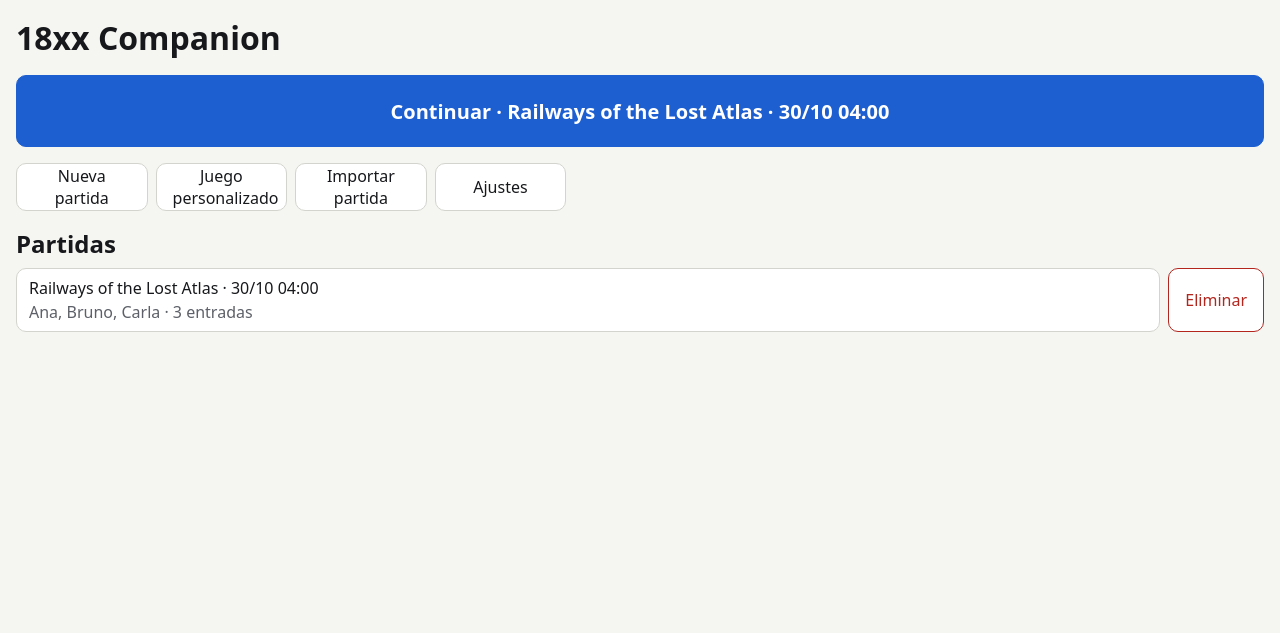
RotLA's 1-D track (T102) › is one wrapping strip: 27 cells, the 0 labeled Cerrada, stacks top to bottom, the launch range highlighted
Click the button "Continuar · Railways of the Lost Atlas · 30/10 04:00".
click(640, 111)  # box [16,75,1264,147]
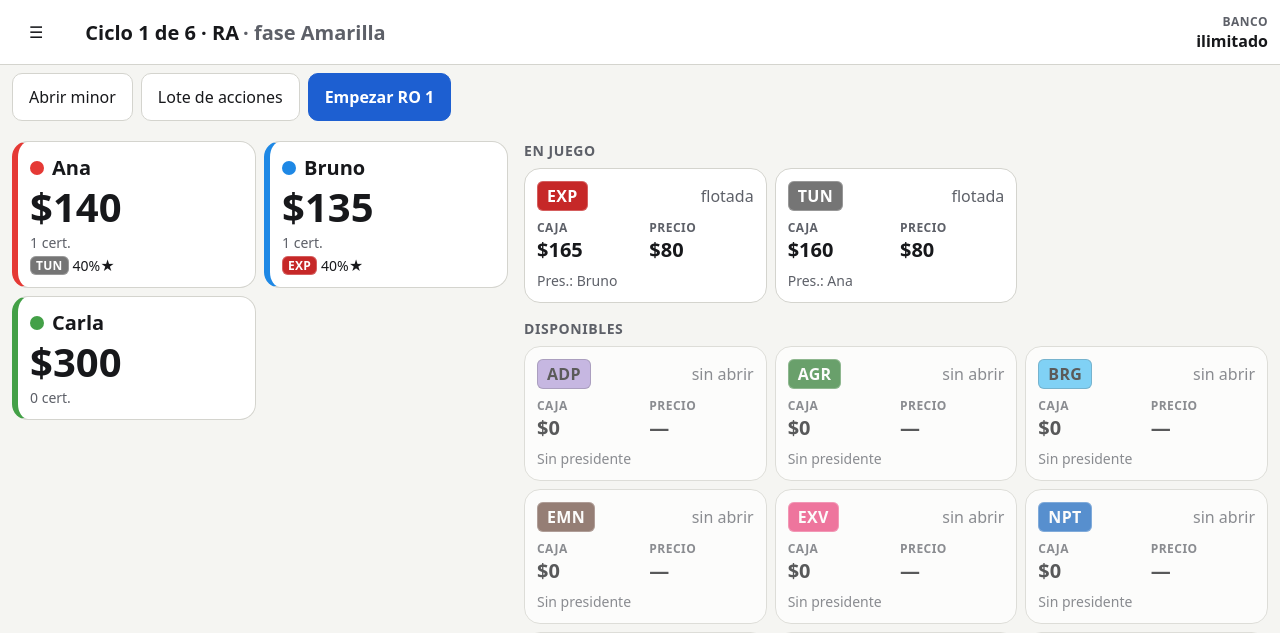
Now the button named "Menú" is shown
Click the button named "Menú".
click(36, 32)  # box [12,8,60,56]
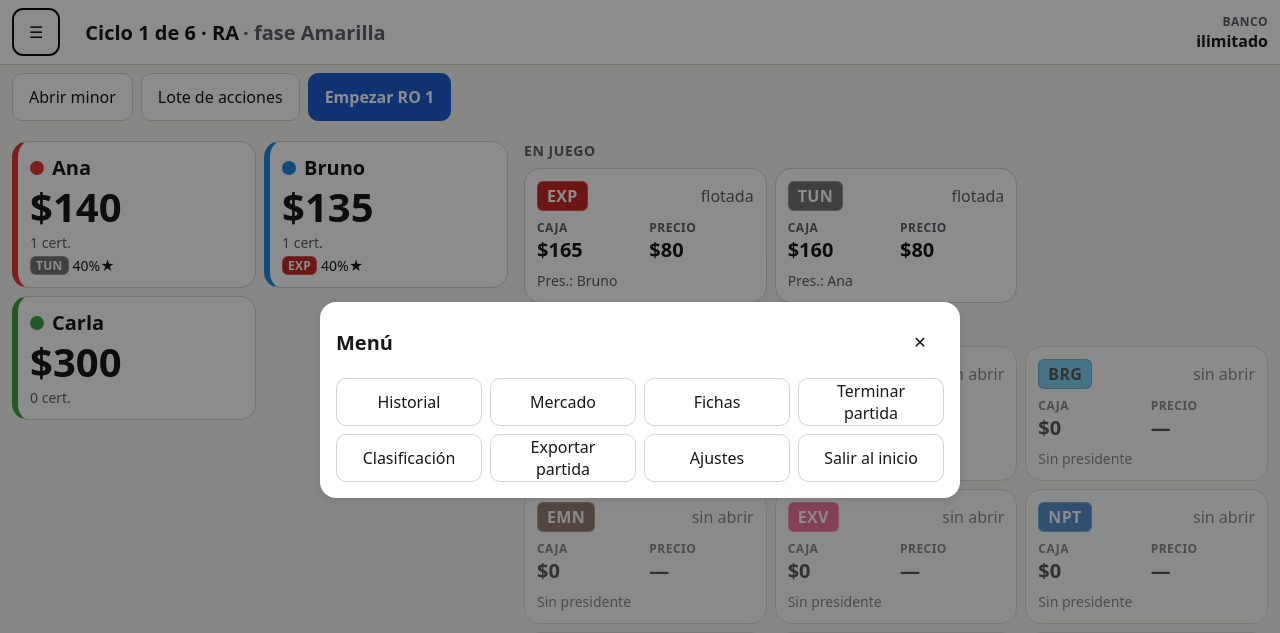
Click the button "Mercado".
click(563, 402)  # box [490,378,636,426]
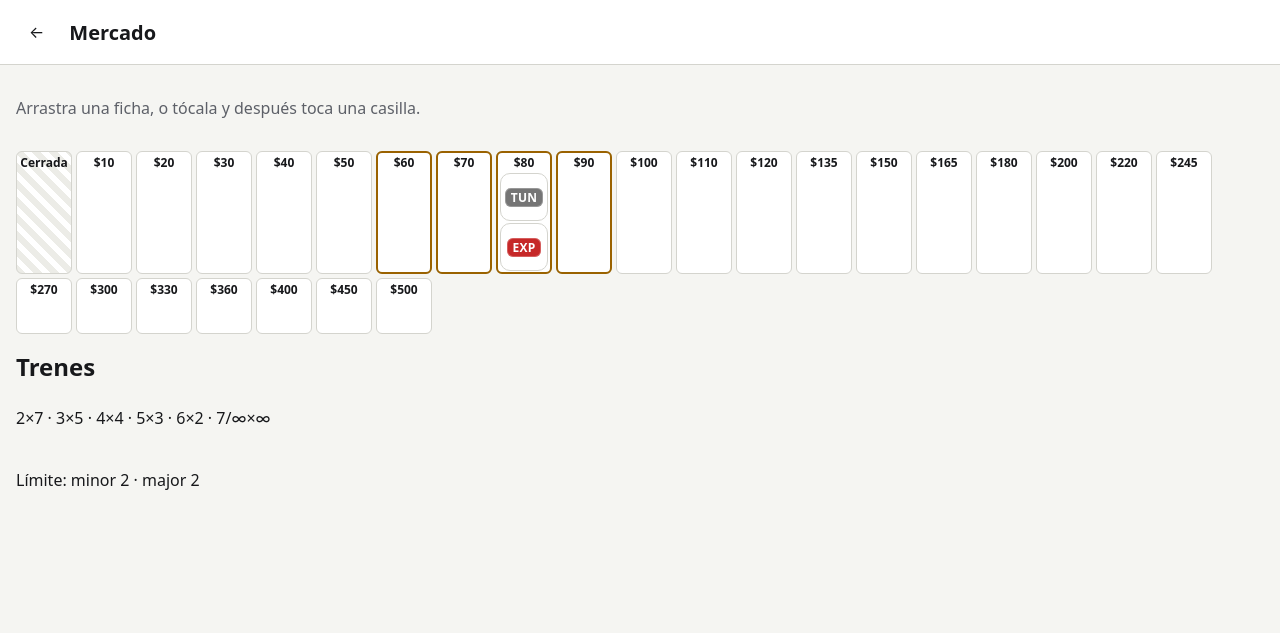
Now the number of buttons named "Casilla" is 27
Now the button with aria-label "Casilla cerrada" reads "Cerrada", box [16,151,72,274]
